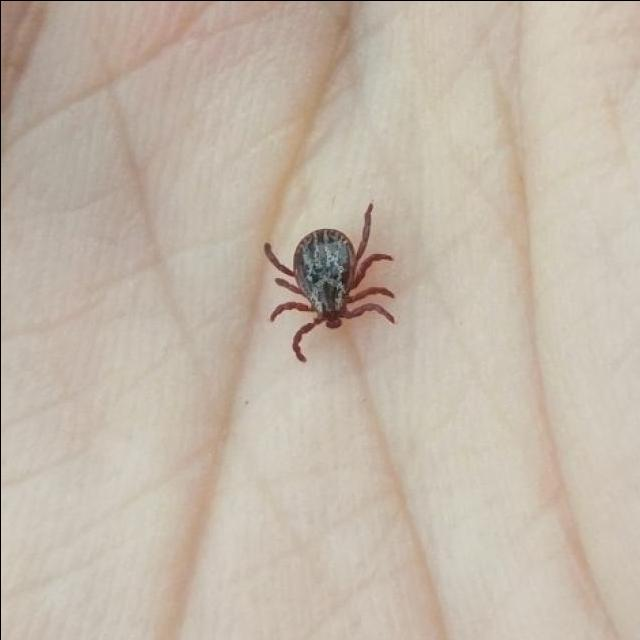Dermacentor Reticulatus-M: (265, 208, 395, 363)
